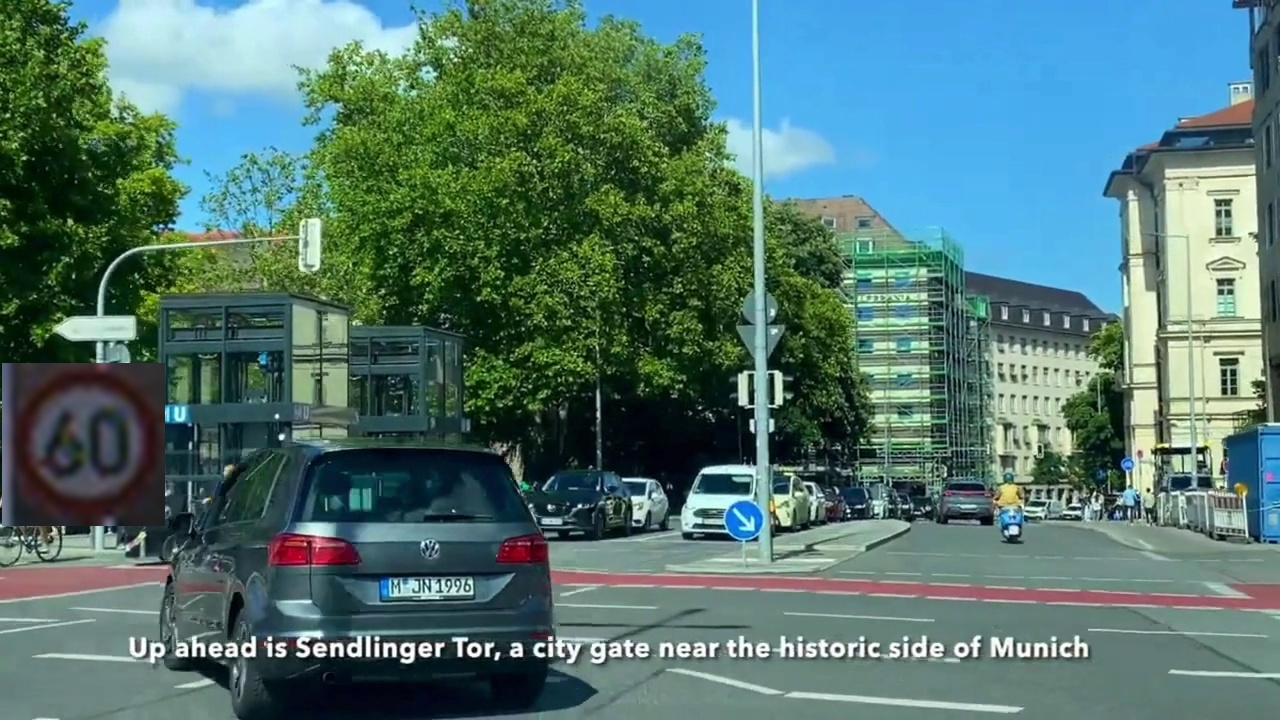Speed 60: (2, 363, 165, 526)
